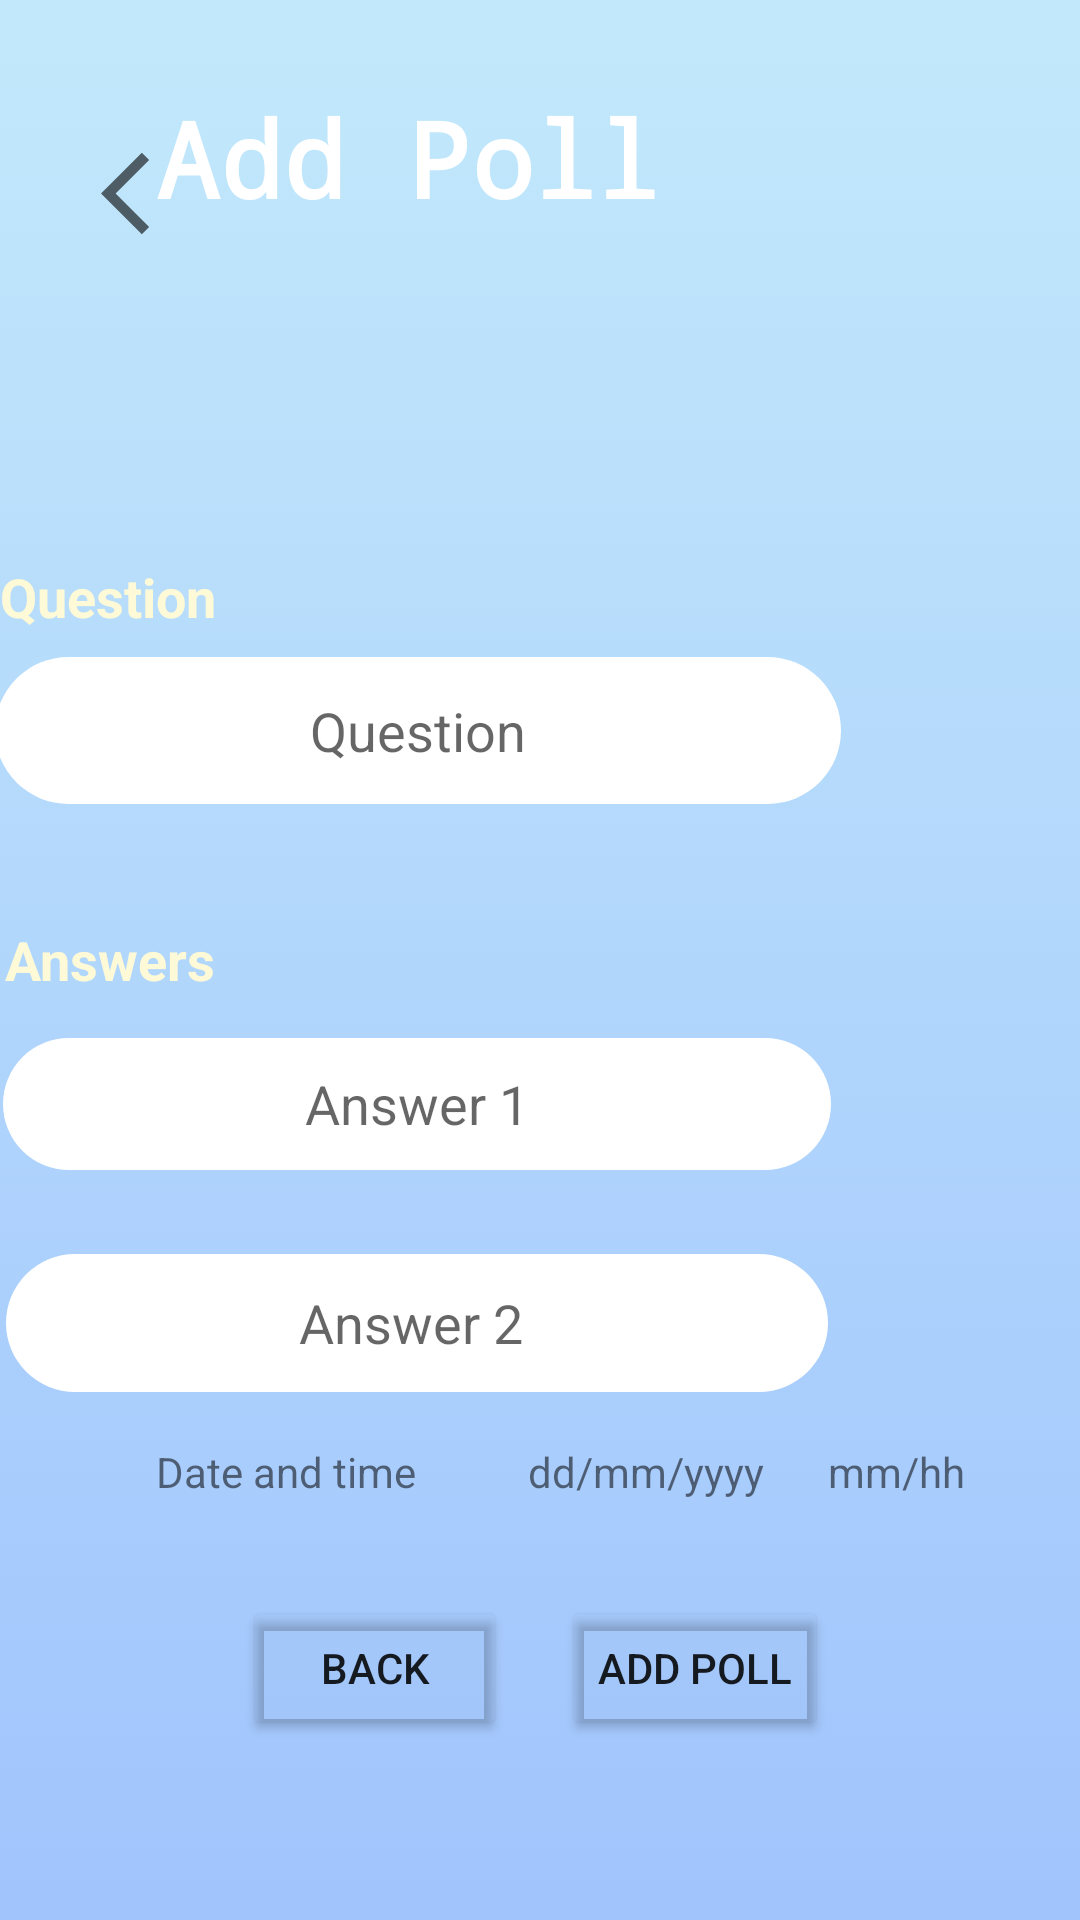

Locate icon controls on the screen. Image size 1080×1920, boxes as (x1, y1, x2, y2).
arrow back: (101, 144, 204, 234)
